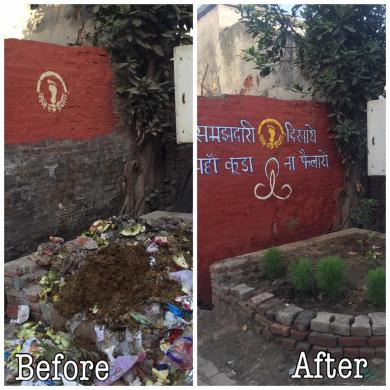BAD: (14, 207, 199, 355)
Good: (211, 225, 390, 344)
Household : Bio-degradable: (60, 243, 173, 324)
Household : General: (15, 319, 103, 349), (85, 213, 158, 242)
IGNORE: (12, 349, 112, 386), (294, 347, 375, 382)
